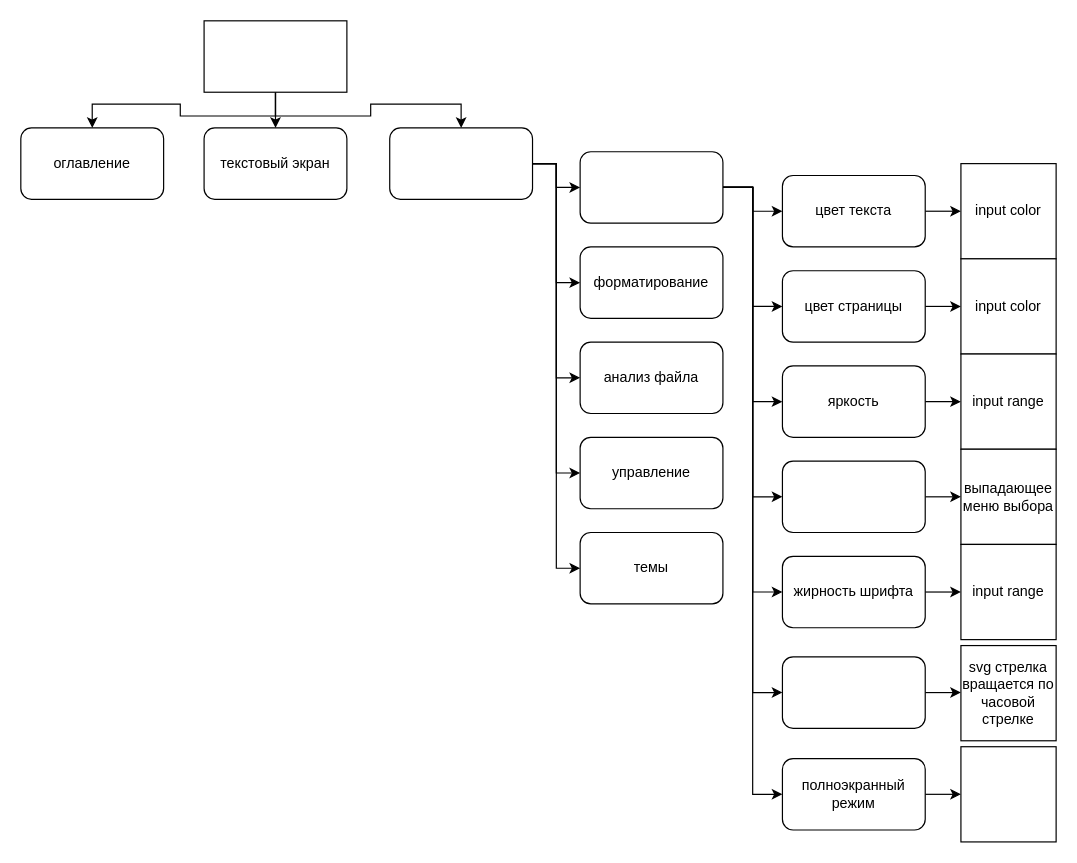
The diagram is 1077 pixels wide and 863 high, and some of its shapes have lost their labels. The shapes that lost their labels are listed below. From the top down, each one's box as (x1, y1, x2, y2) in pixels, then its label:
(203, 20, 347, 92): Читалка
(389, 127, 533, 199): настройки
(579, 151, 723, 223): вид страницы
(781, 460, 925, 533): шрифт
(781, 656, 925, 728): ориентация экрана
(960, 746, 1056, 842): чекбокс
